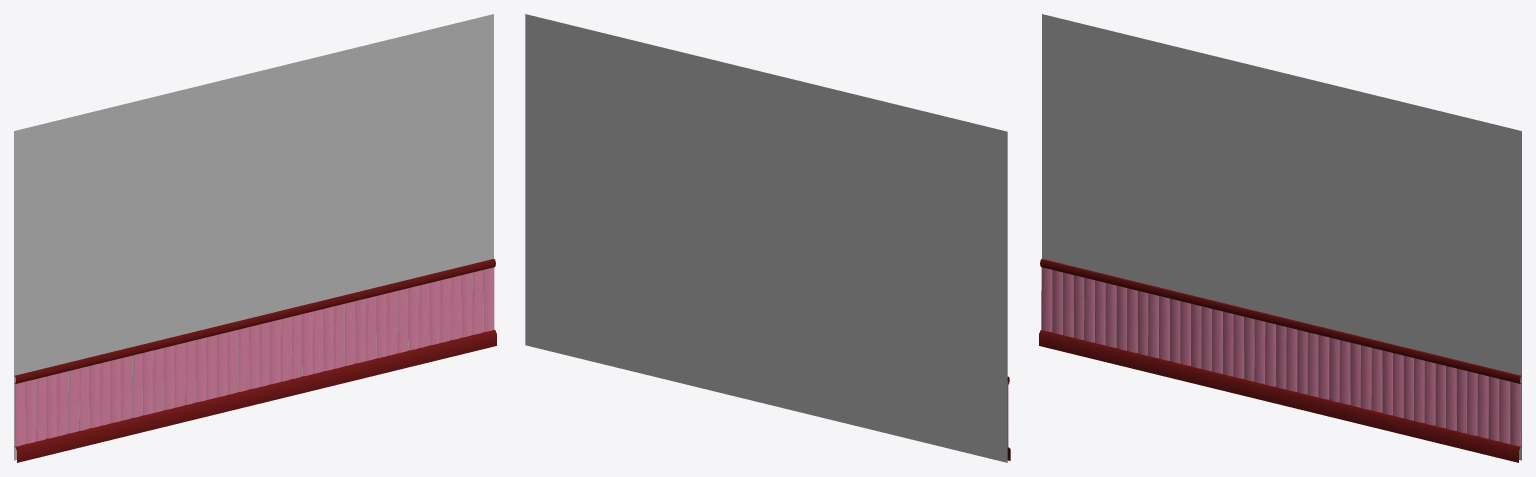
Rendered from wall.fbx.
3 views of the same model, side by side, from view 1: azimuth 30°, elevation 25°; view 2: azimuth 150°, elevation 25°; view 3: azimuth 330°, elevation 25° (orthographic).
Parts seen in each view (by area): view 1: wall; view 2: wall; view 3: wall.
Boxes of the visible parts, x1,y1,x2,y2 form: wall: [14, 14, 496, 462]; wall: [525, 14, 1010, 462]; wall: [1039, 14, 1521, 462].
Size of the model in its own units: 20 by 13.13 by 0.2101.
